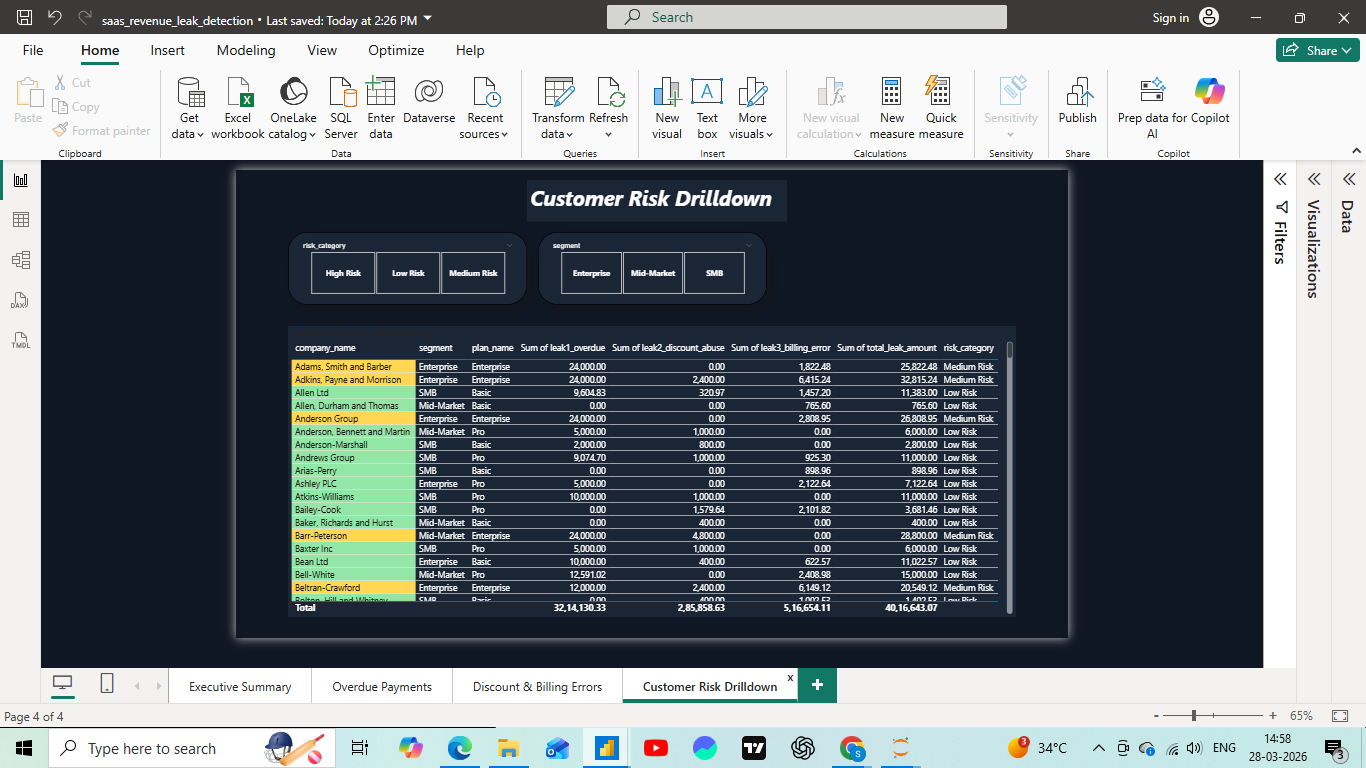

This screenshot's page, from the dashboard's own definition file:
{"tool":"powerbi","page":{"name":"Customer Risk Drilldown","canvas":[1280,720],"ordinal":3},"visuals":[{"type":"slicer","fields":{"Values":["Master_Leak_Summary.risk_category"]},"box":[80,96,368,112],"z":0},{"type":"slicer","fields":{"Values":["Master_Leak_Summary.segment"]},"box":[464,96,352,112],"z":1000},{"type":"tableEx","title":"Customer Level Leak Details","fields":{"Values":["Master_Leak_Summary.company_name","Master_Leak_Summary.segment","Master_Leak_Summary.plan_name","Sum(Master_Leak_Summary.leak1_overdue)","Sum(Master_Leak_Summary.leak2_discount_abuse)","Sum(Master_Leak_Summary.leak3_billing_error)","Sum(Master_Leak_Summary.total_leak_amount)","Master_Leak_Summary.risk_category"]},"box":[80,240,1120,448],"z":2000},{"type":"textbox","box":[448,16,400,64],"z":3000}]}

Visuals, with their boxes on the page's 1280x720 design canvas (x1, y1, x2, y2). These are canvas units, not pixel positions in the 1366x768 screenshot, which may show the page scaled, cropped or inside an application window:
slicer - Master_Leak_Summary.risk_category: <box>80,96,448,208</box>
slicer - Master_Leak_Summary.segment: <box>464,96,816,208</box>
"Customer Level Leak Details" tableEx: <box>80,240,1200,688</box>
textbox: <box>448,16,848,80</box>
